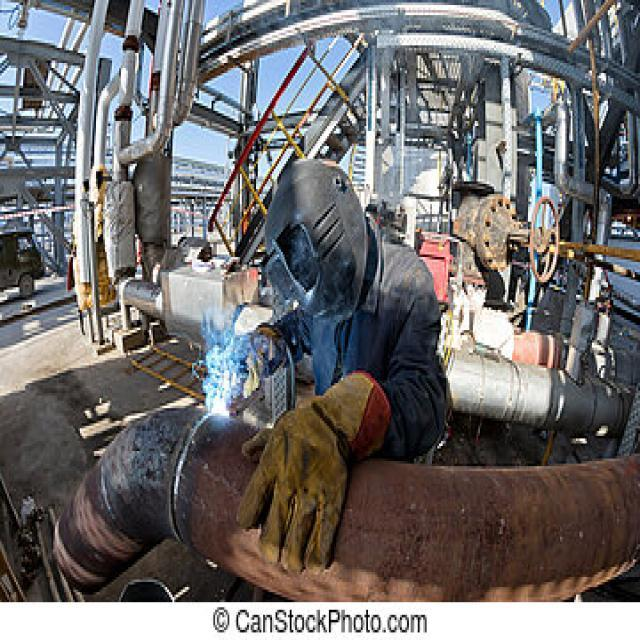with_helmet: (258, 156, 378, 330)
